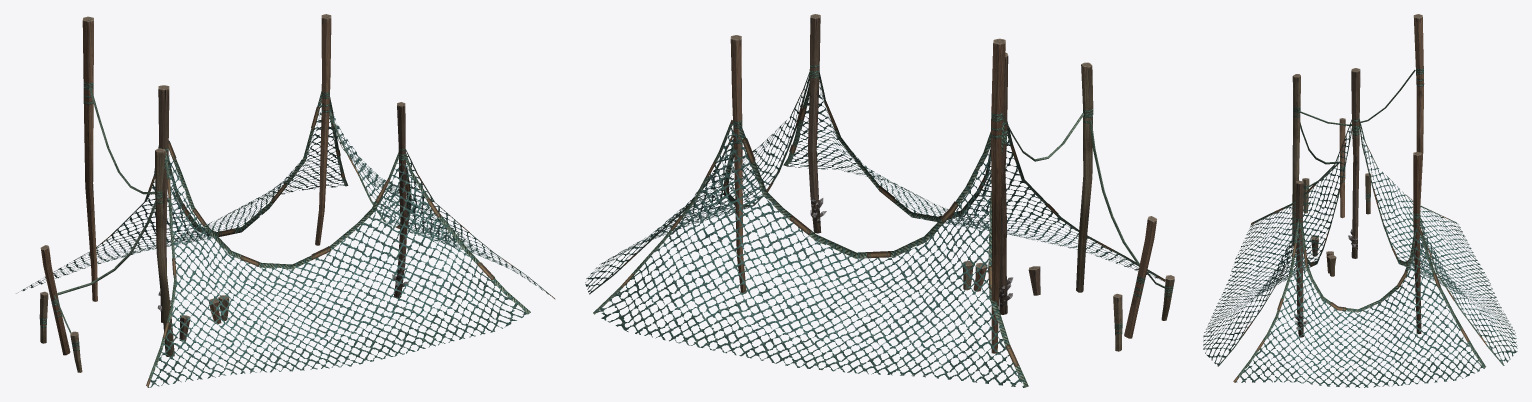
The model's file is outside_model_02_bigfishingnet.FBX.
3 renders of one model, left to right at view 1: azimuth 30°, elevation 25°; view 2: azimuth 150°, elevation 25°; view 3: azimuth 270°, elevation 25°, orthographic. The views are drawn at different scales.
Parts seen in each view (by area): view 1: outside_model_02_bigfishingnet; view 2: outside_model_02_bigfishingnet; view 3: outside_model_02_bigfishingnet.
Boxes of the visible parts, bbox=[...] form: outside_model_02_bigfishingnet: bbox=[16, 14, 555, 387]; outside_model_02_bigfishingnet: bbox=[585, 14, 1174, 387]; outside_model_02_bigfishingnet: bbox=[1203, 14, 1517, 387].
Size of the model in its own units: 4.39 by 2.71 by 3.31.
